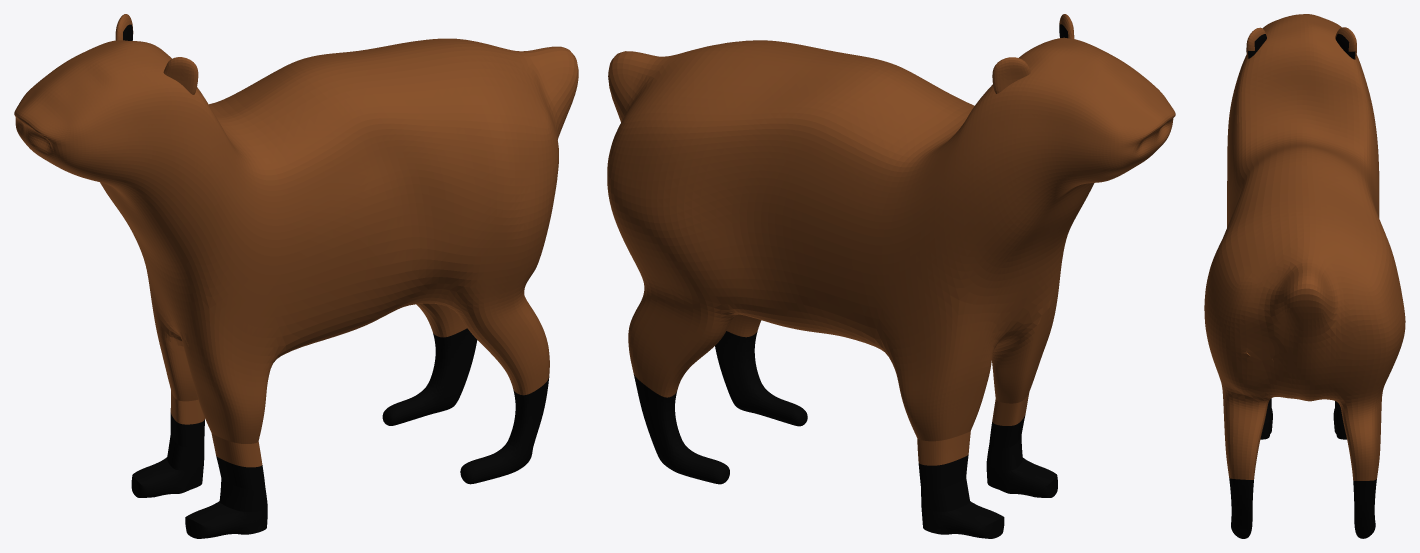
File: capibara - copia.fbx
The picture shows the model from 3 angles, left to right: view 1: azimuth 30°, elevation 25°; view 2: azimuth 150°, elevation 25°; view 3: azimuth 270°, elevation 25°; orthographic projection. The views are drawn at different scales.
Visible parts, largest first — view 1: Cube.002; view 2: Cube.002; view 3: Cube.002.
Boxes of the visible parts, x1,y1,x2,y2 form: Cube.002: [14, 14, 578, 538]; Cube.002: [607, 14, 1175, 538]; Cube.002: [1204, 14, 1405, 538].
Bounding box in the file's own units: 361 × 304 × 144.
